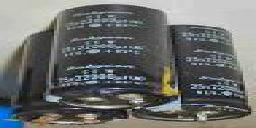Electrolytic Capacitor: (51, 5, 179, 111)
